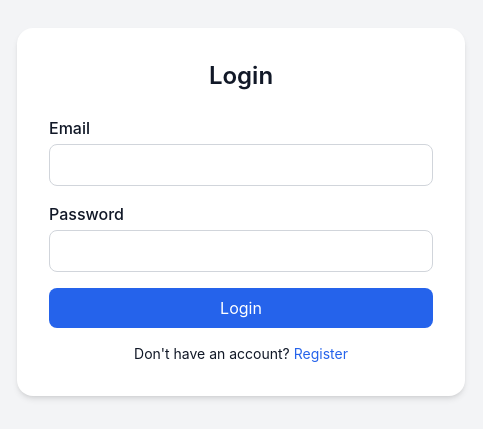
Test: Login Page › shows error on invalid email format
The width and height of the screenshot is (483, 429).
Type "invalid-email" into the field with test id "email" at (241, 165), box x1=49 y1=144 x2=433 y2=186
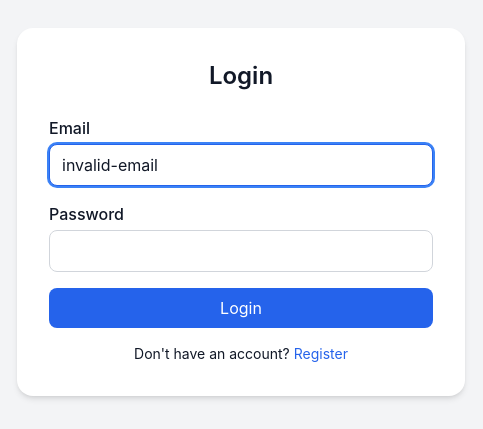
Type "password123" into the password field with test id "password" at (241, 251), box x1=49 y1=230 x2=433 y2=272
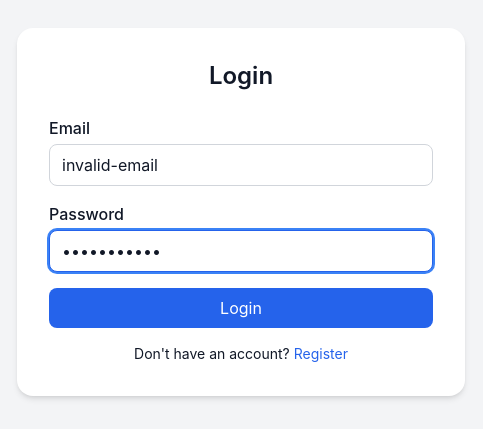
Click the button with test id "submit" at (241, 308), box x1=49 y1=288 x2=433 y2=328
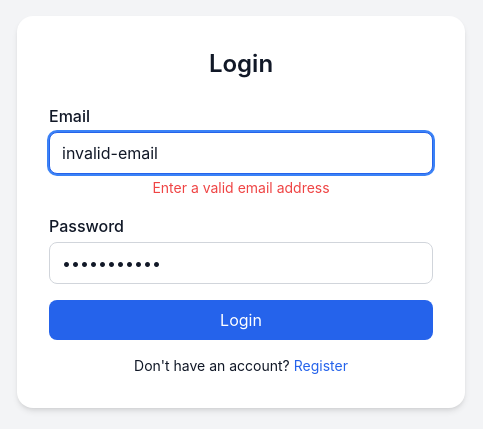
Expected: the text "Enter a valid email address" is shown, x1=152 y1=179 x2=330 y2=196
